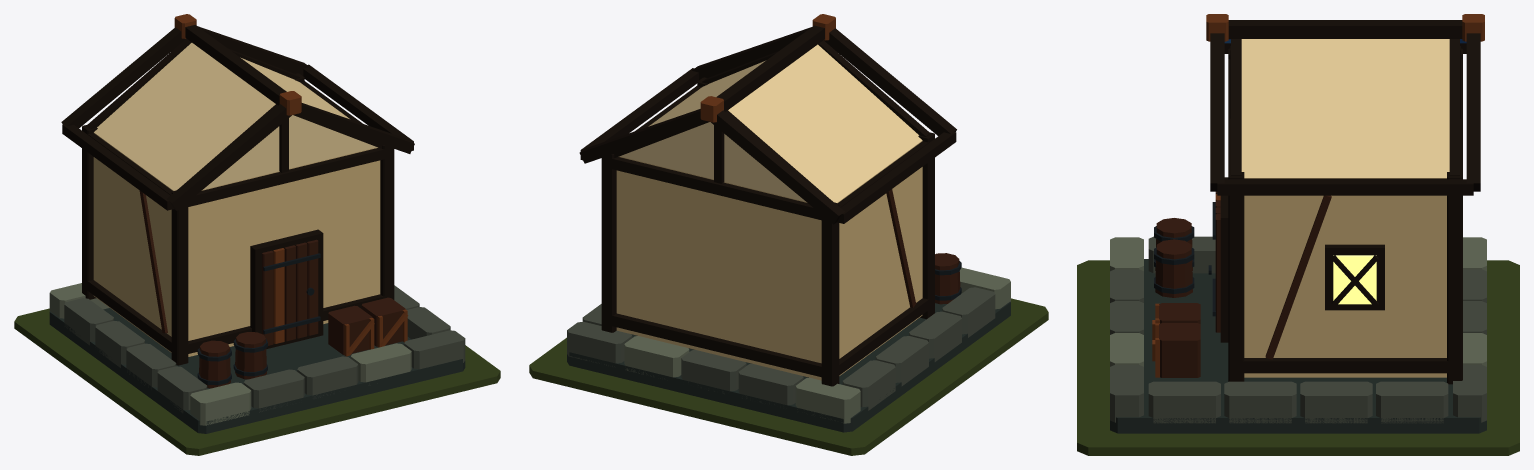
Rendered from storehouse_t2.glb.
The picture shows the model from 3 angles, left to right: view 1: azimuth 30°, elevation 25°; view 2: azimuth 150°, elevation 25°; view 3: azimuth 270°, elevation 25°; orthographic projection. The views are drawn at different scales.
Parts seen in each view (by area): view 1: MMR | storehouse | T02 Architecture.001, MMR | storehouse | Tier 02 Ground.001; view 2: MMR | storehouse | T02 Architecture.001, MMR | storehouse | Tier 02 Ground.001; view 3: MMR | storehouse | T02 Architecture.001, MMR | storehouse | Tier 02 Ground.001.
Part boxes in pixels (x1,y1,x2,y2): MMR | storehouse | T02 Architecture.001: (49, 14, 465, 433); MMR | storehouse | Tier 02 Ground.001: (14, 308, 500, 455); MMR | storehouse | T02 Architecture.001: (567, 14, 1010, 432); MMR | storehouse | Tier 02 Ground.001: (529, 298, 1048, 455); MMR | storehouse | T02 Architecture.001: (1110, 14, 1486, 433); MMR | storehouse | Tier 02 Ground.001: (1077, 260, 1519, 455).
Bounding box in the file's own units: 2.35 × 2.02 × 2.35.
Materials: 2 (1 with a texture image).
